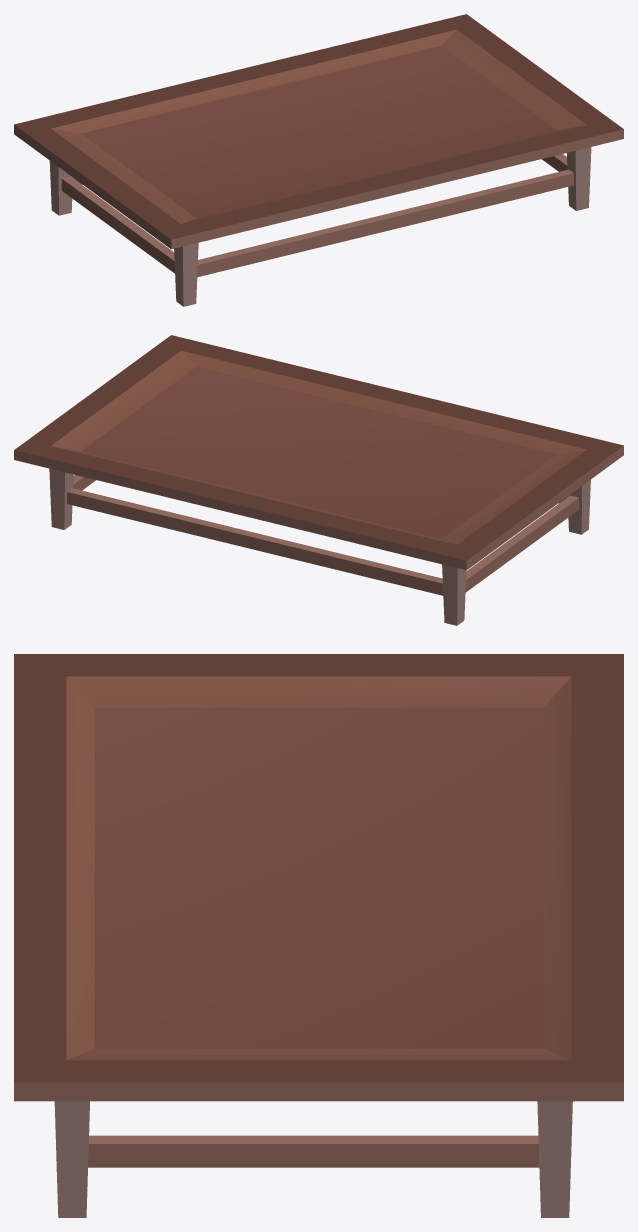
Rendered from SM_coffee_table_001.FBX.
3 views of the same model, one above another, from view 1: azimuth 30°, elevation 25°; view 2: azimuth 150°, elevation 25°; view 3: azimuth 270°, elevation 25° (orthographic). The views are drawn at different scales.
Visible parts, largest first — view 1: SM_coffee_table_001; view 2: SM_coffee_table_001; view 3: SM_coffee_table_001.
Boxes of the visible parts, left/top/right/bottom form: SM_coffee_table_001: left=14, top=14, right=623, bottom=306; SM_coffee_table_001: left=14, top=335, right=623, bottom=625; SM_coffee_table_001: left=14, top=654, right=623, bottom=1217.
Size of the model in its own units: 172 by 103 by 29.52.
